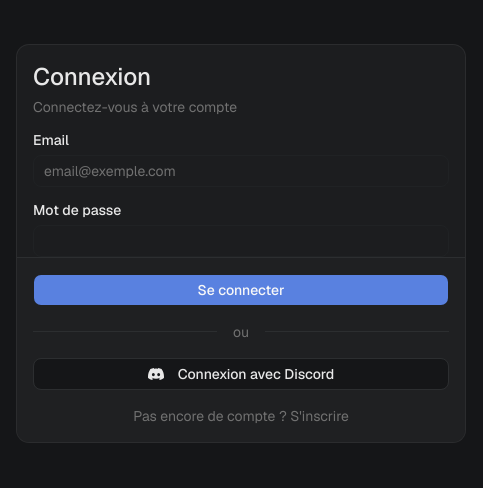
Test case: LoginPage › should show validation errors on empty submit
The width and height of the screenshot is (483, 488).
Click the button "Se connecter" at coordinates (241, 290), box [33,274,449,306]
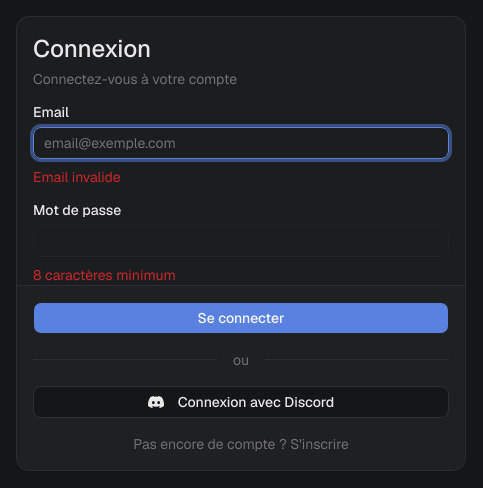
Check: the text "Email invalide" is shown, box [33,168,121,186]
